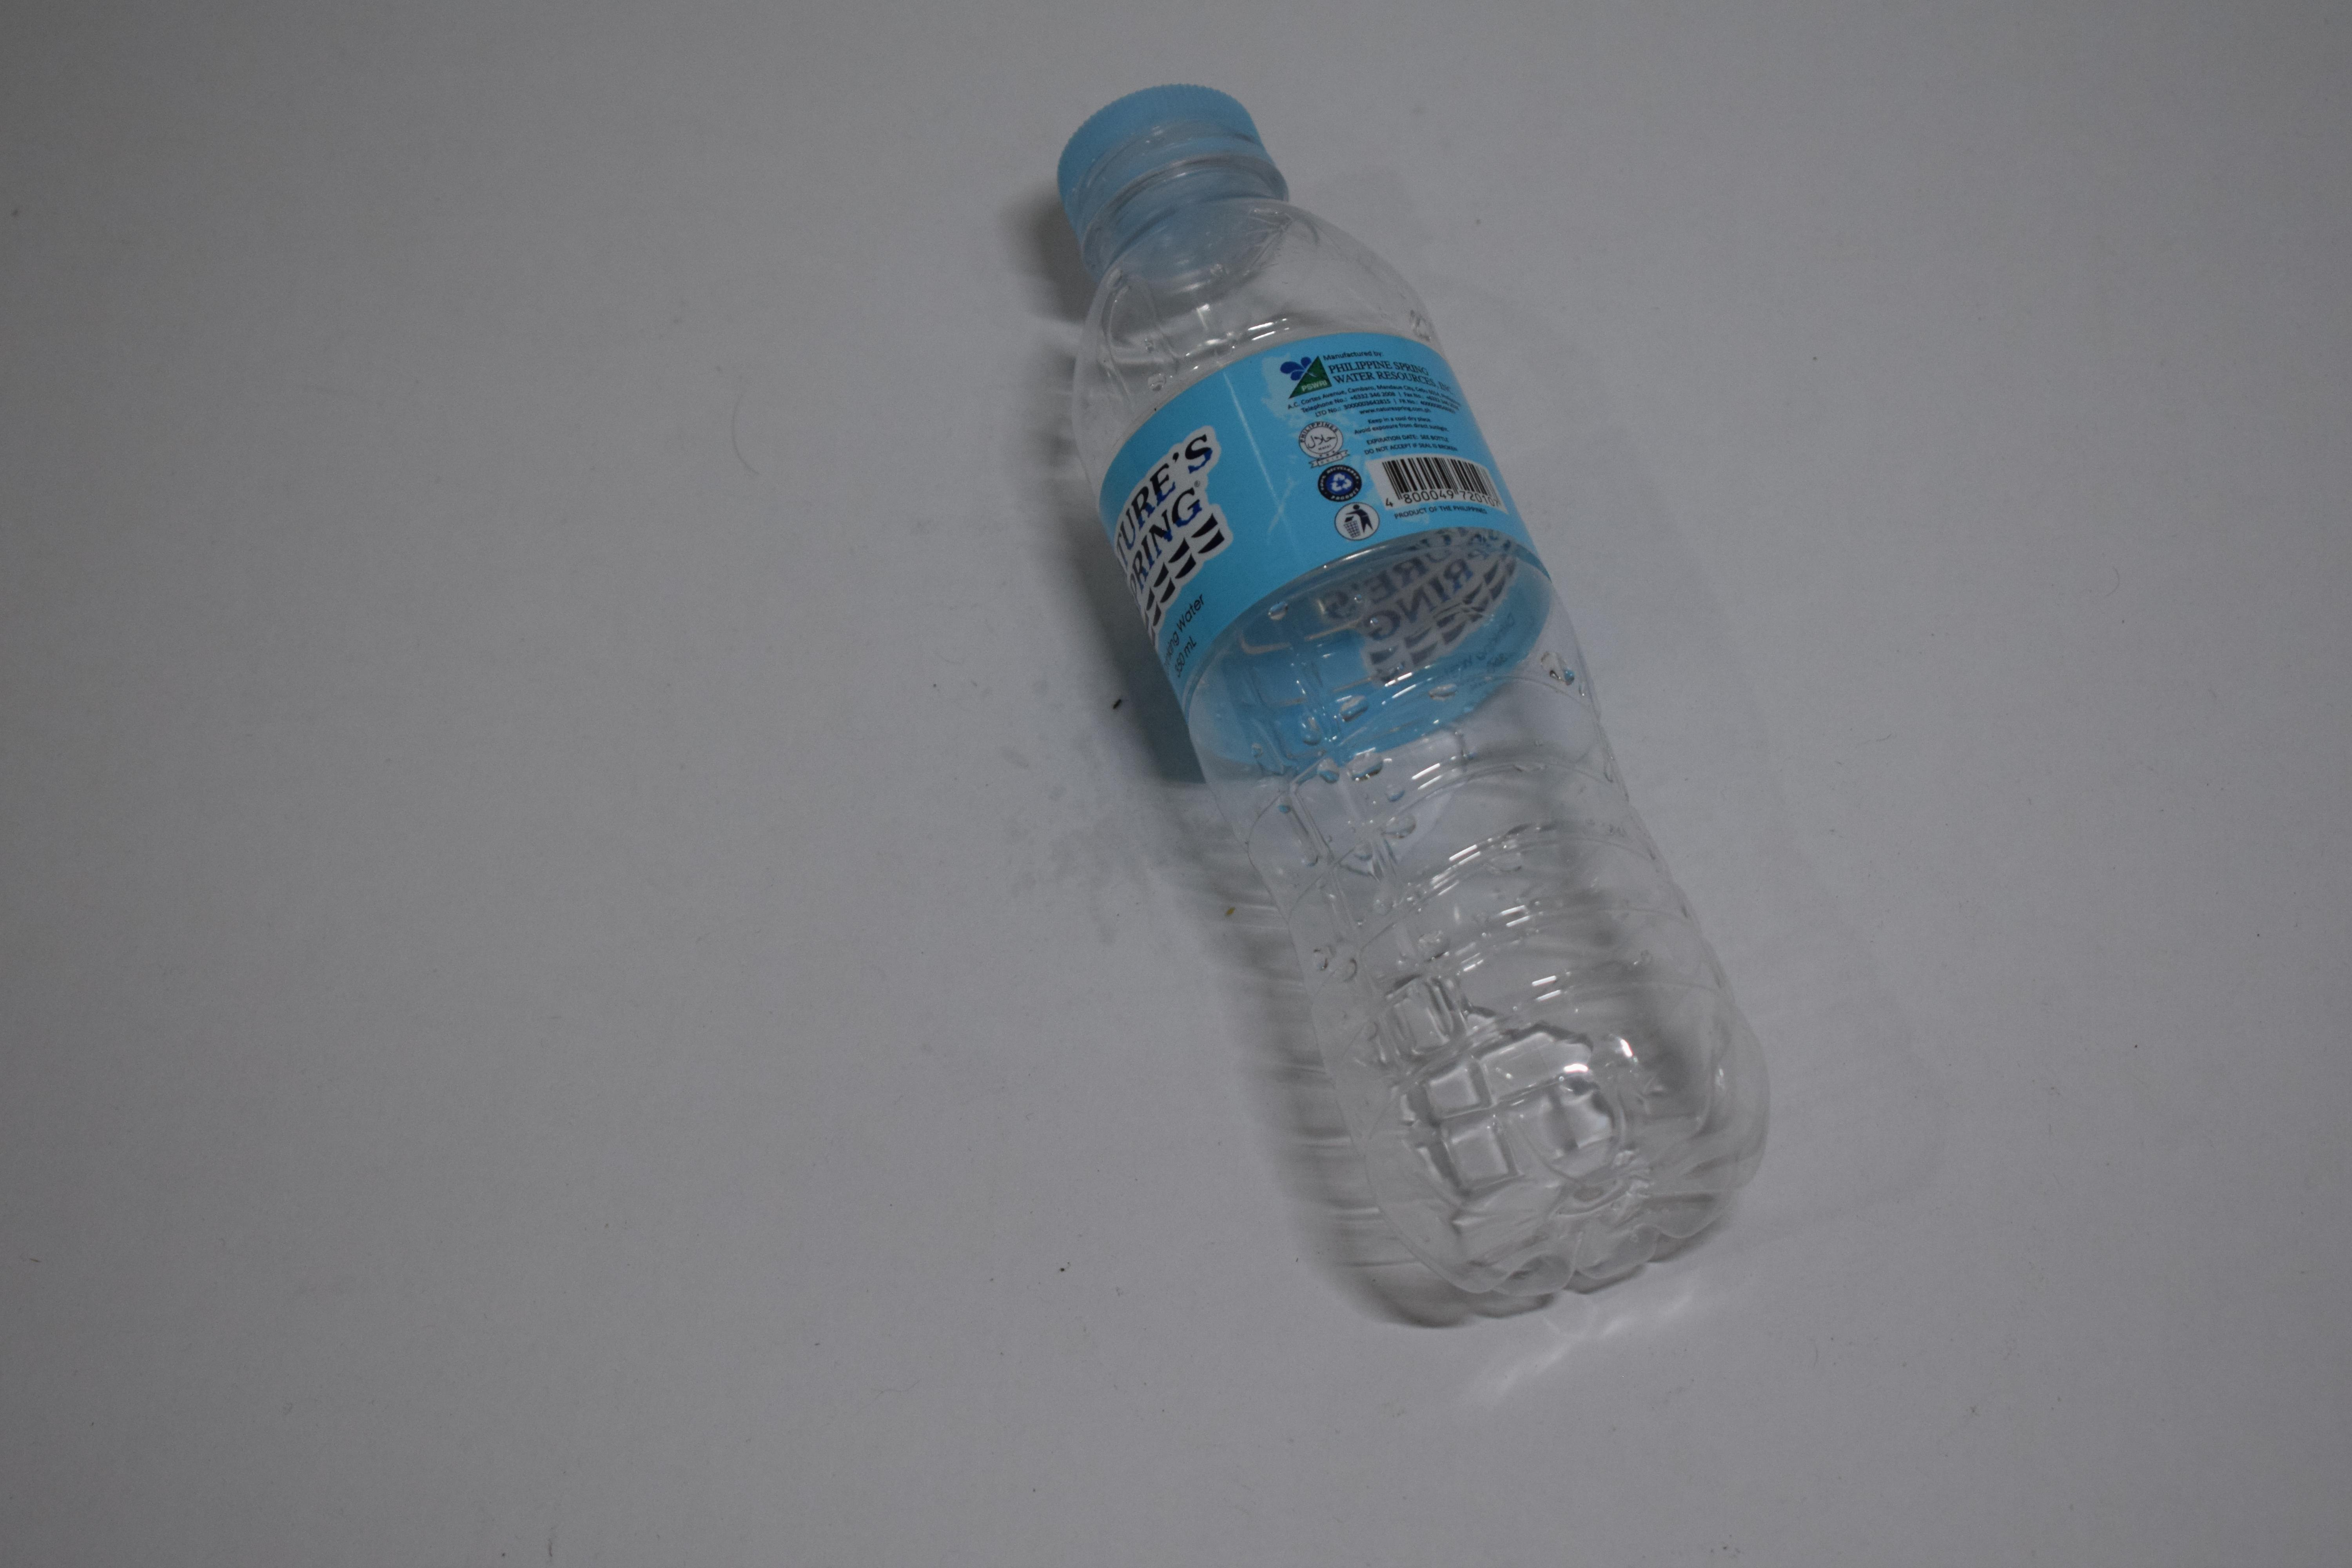bottle: (0, 75, 600, 1332)
